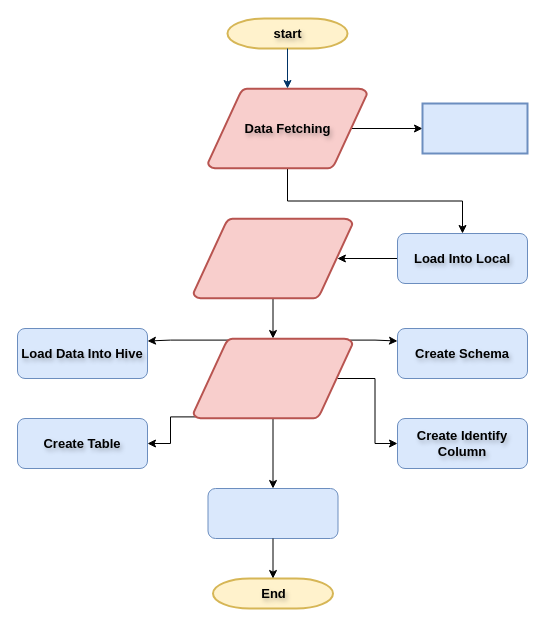
Image size: 546x626. Some labels were removed from this diagram. Here are the shapes that lost their labels. From the top down, the centre of each, then its label:
At point 474,128: "Given URL".
At point 272,258: "Load Into HDFS".
At point 272,378: "Hive Integration".
At point 272,513: "Display Data".
